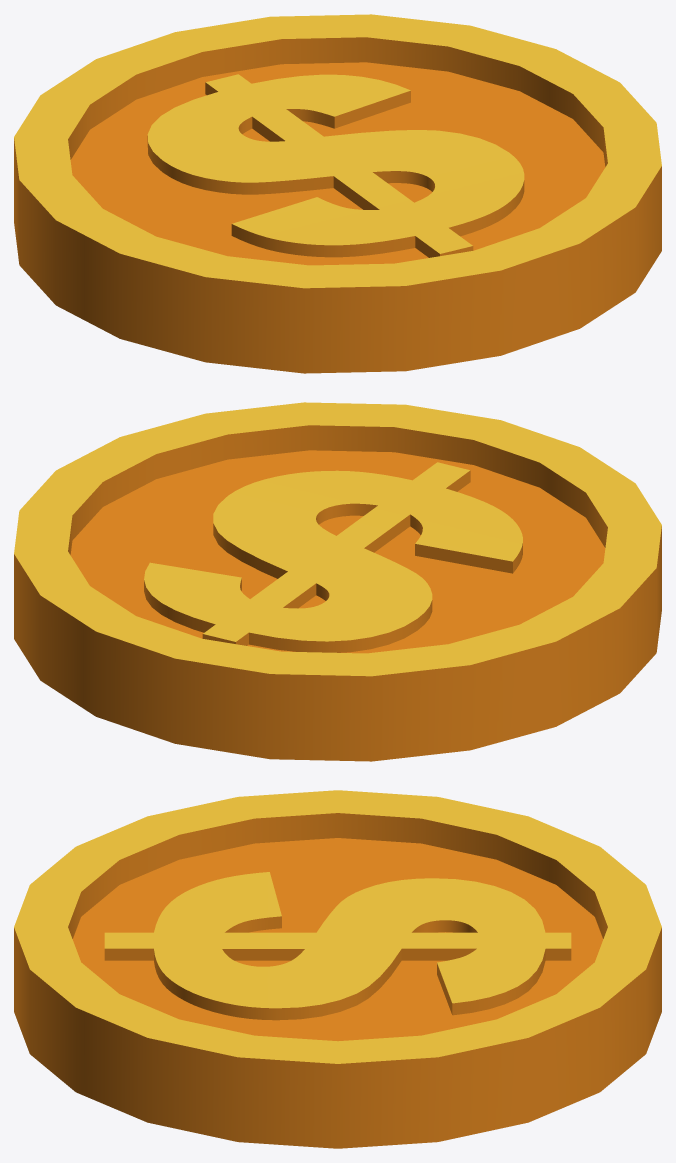
Rendered from Coin.fbx.
3 views of the same model, one above another, from view 1: azimuth 30°, elevation 25°; view 2: azimuth 150°, elevation 25°; view 3: azimuth 270°, elevation 25° (orthographic).
Parts seen in each view (by area): view 1: Coin; view 2: Coin; view 3: Coin.
Part boxes in pixels (x1=…): Coin: x1=14, y1=14, x2=661, y2=373; Coin: x1=14, y1=402, x2=661, y2=761; Coin: x1=14, y1=790, x2=661, y2=1148.
Bounding box in the file's own units: 385 × 55.58 × 385.
